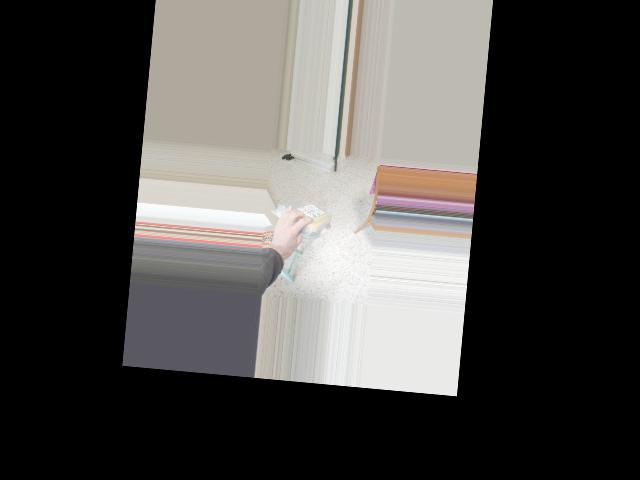cheese: (269, 199, 333, 234)
